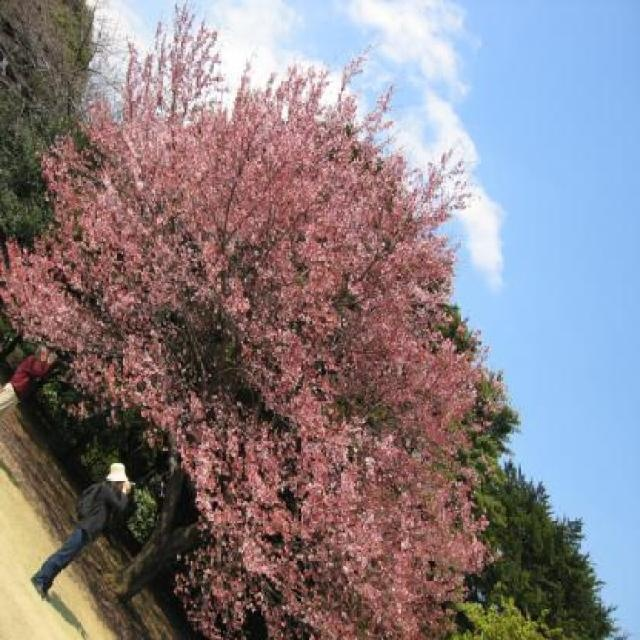obstacle: (34, 448, 134, 601), (0, 343, 55, 421)
